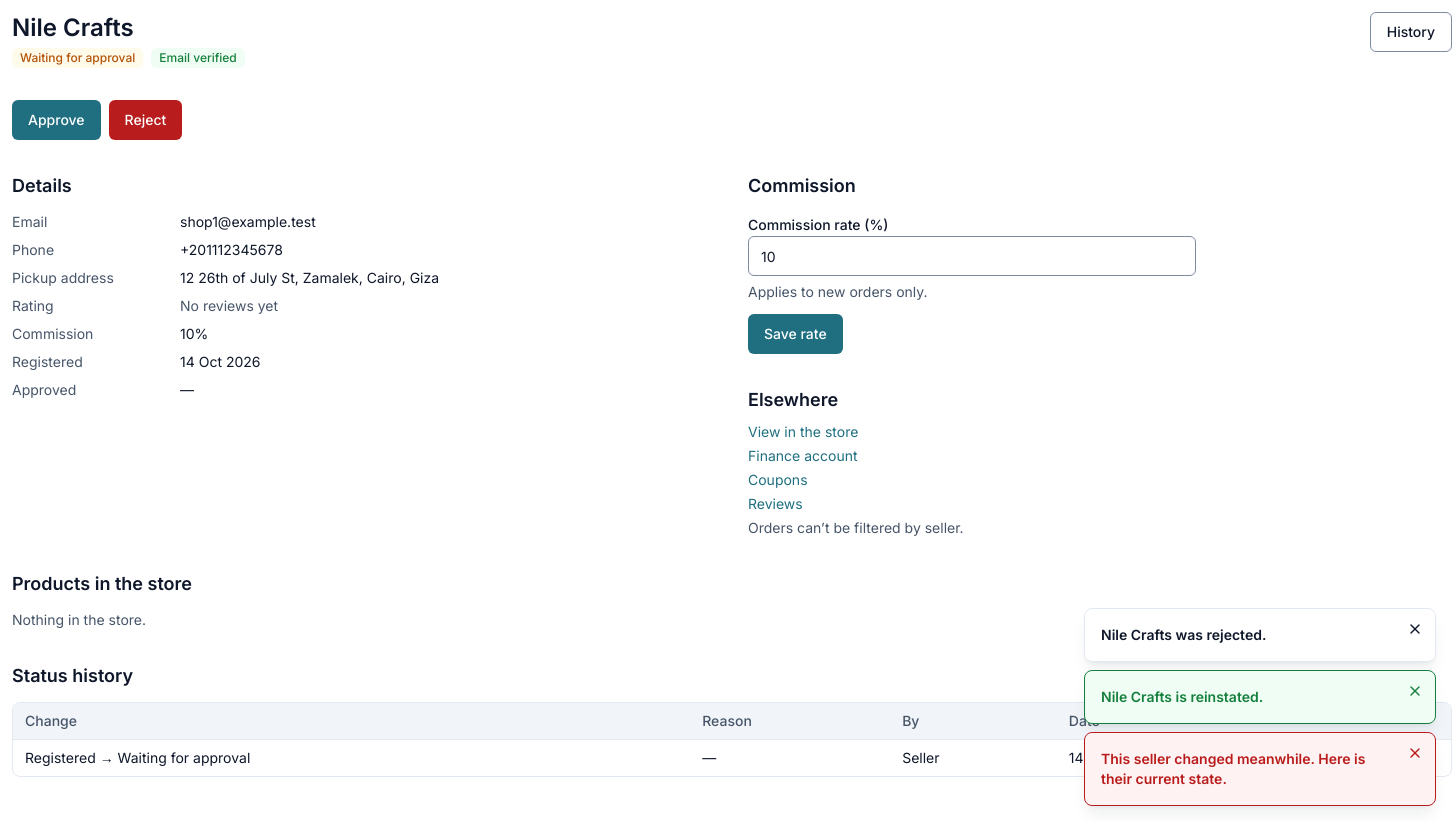
it: seller page (spec 03 AD-05) › commission: percent in, fraction out (12.5 → "0.1250"); unchanged rate on the field
Expected: the text "Applies to new orders only." is shown, [748,283,928,300]
Replace the text in the field labelled "Commission rate (%)" with "12.5" at x=972, y=256, box [748,236,1196,276]
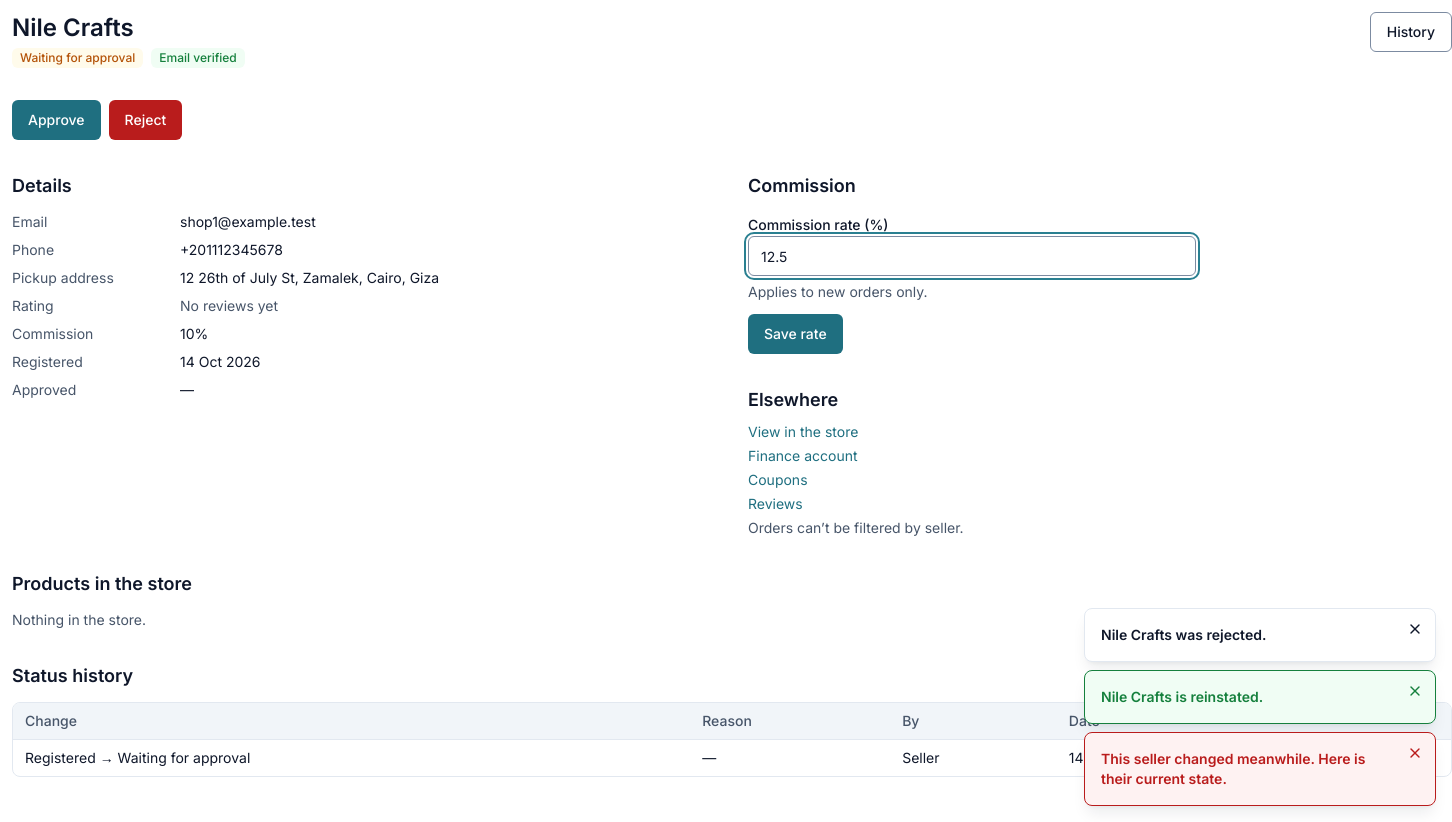
Click the button "Save rate".
click(795, 334)  # box [748,314,843,354]
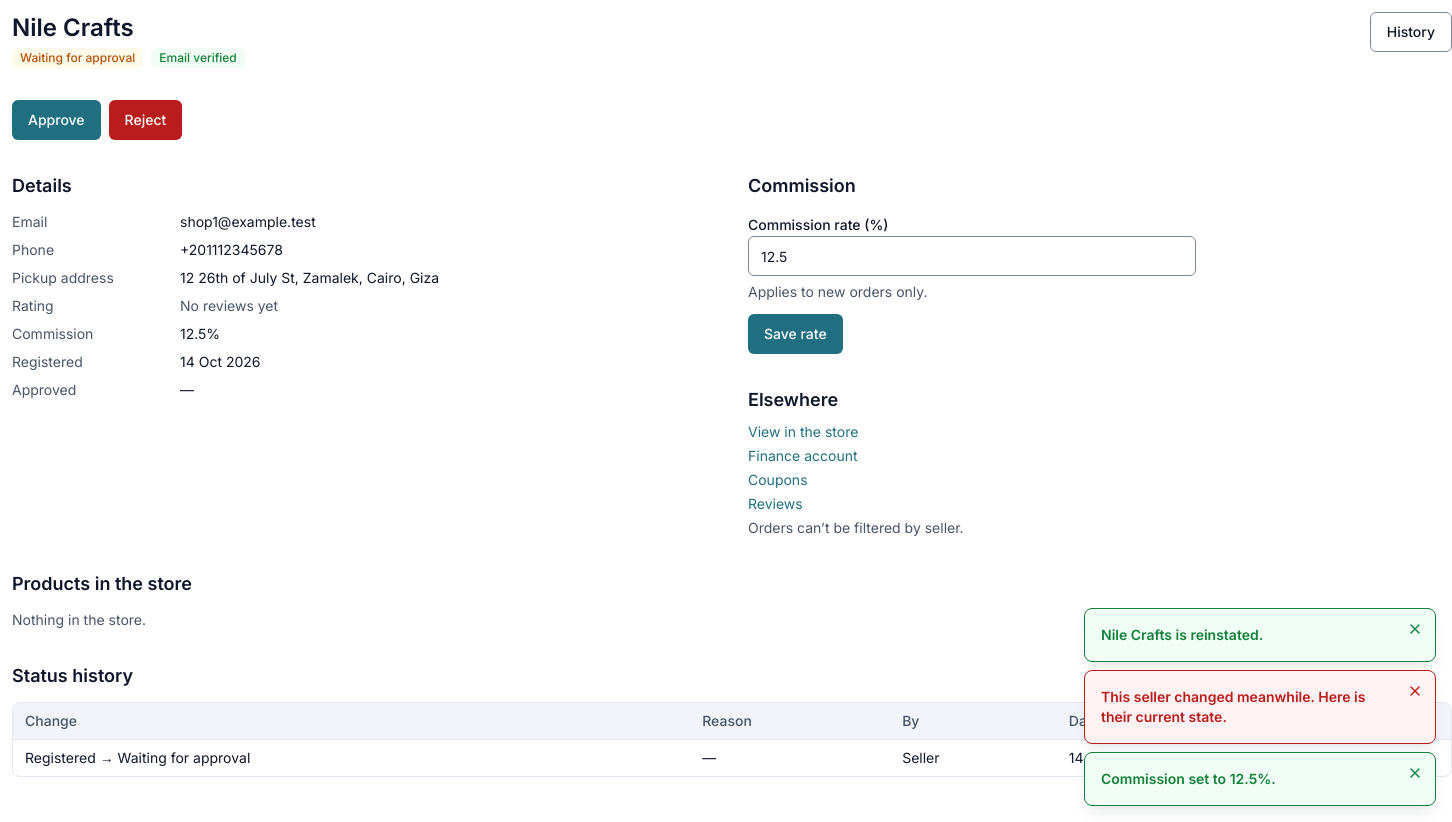
Now the text "Commission set to 12.5%." is shown, box [1101,770,1276,787]
Click the button "Save rate".
click(795, 334)  # box [748,314,843,354]
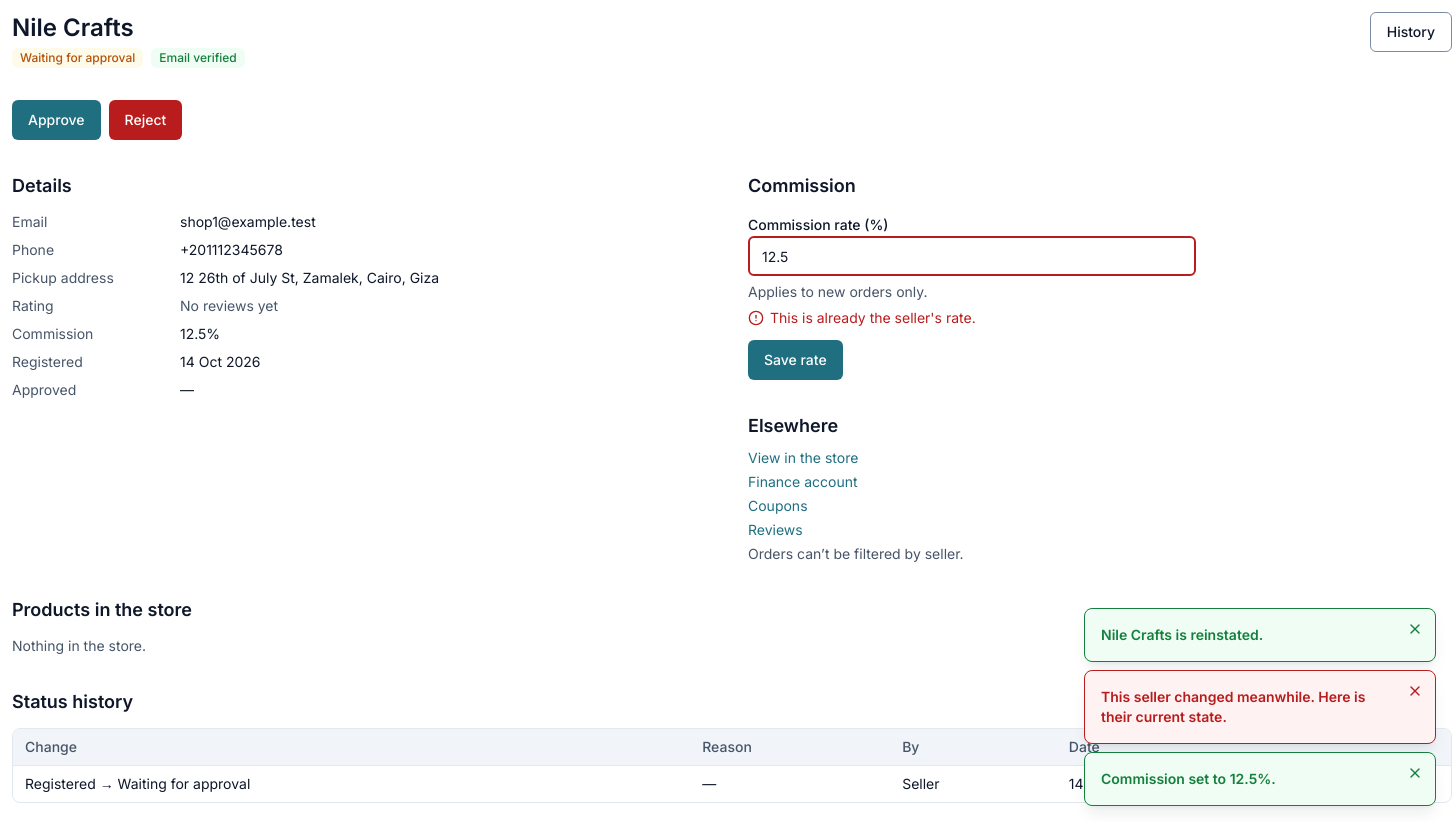
Now the text "This is already the seller's rate." is shown, box [748,309,976,326]
